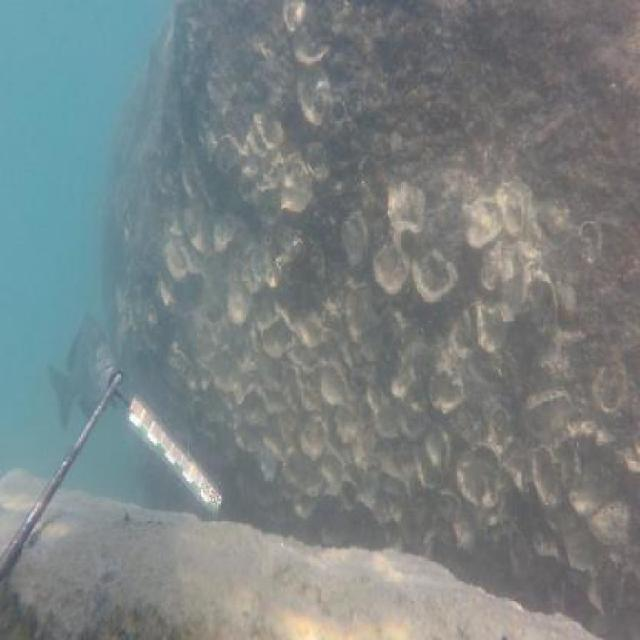acanthopagrus_palmaris: (47, 313, 119, 427)
